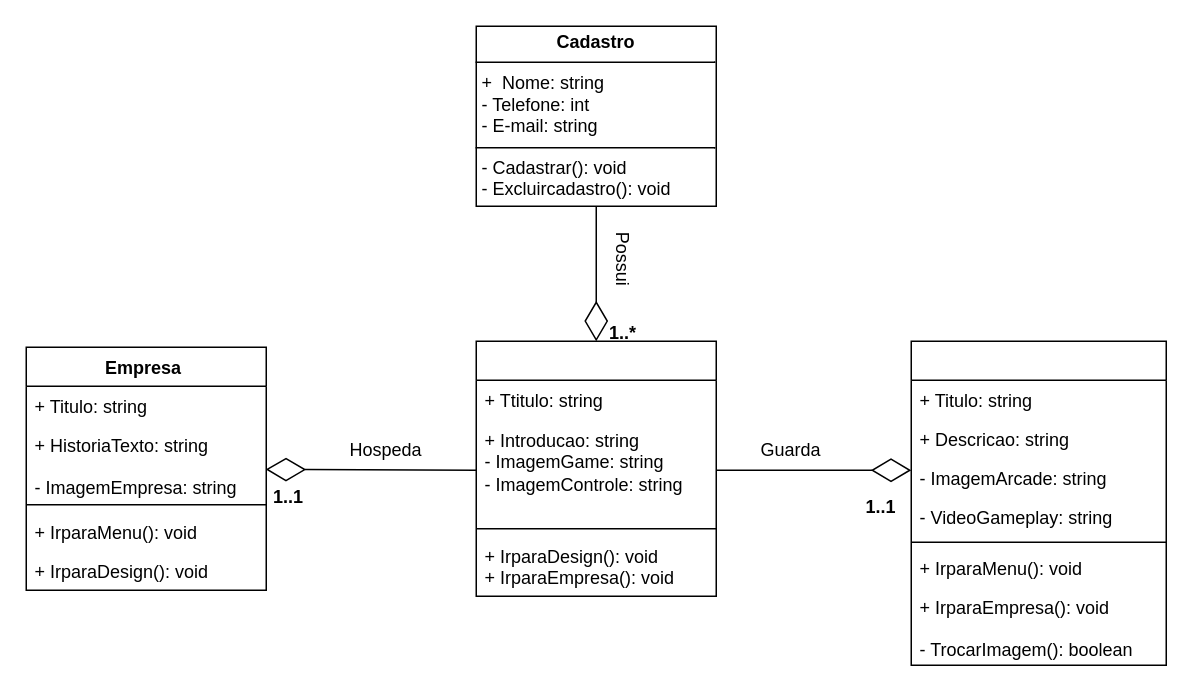
The diagram is 1193 pixels wide and 692 high, and some of its shapes have lost their labels. The shapes that lost their labels are listed below. From the top down, each one's box as (x1, y1, x2, y2) in pixels, then its label:
(475, 340, 716, 596): Menu
(910, 340, 1166, 665): Design
